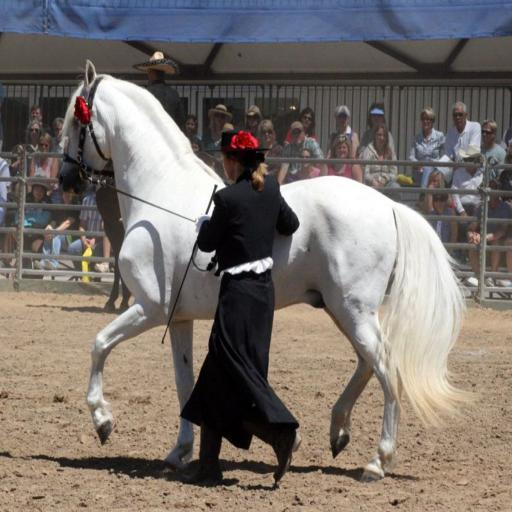horse: (57, 60, 484, 486)
